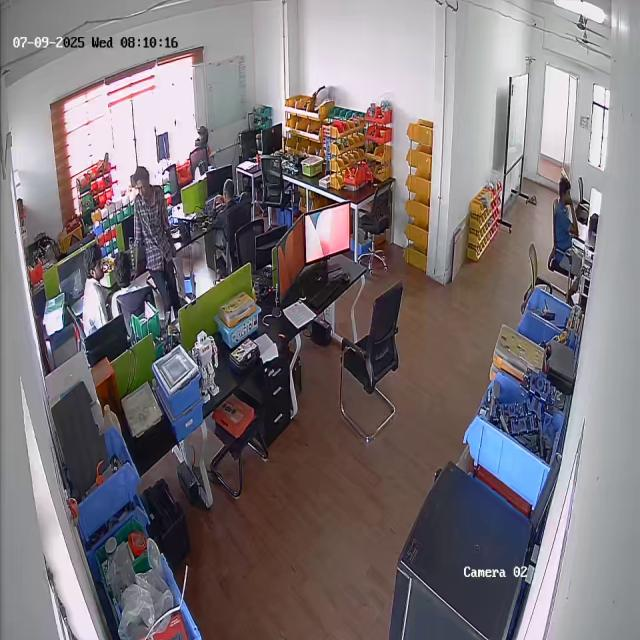person: (132, 164, 181, 318), (550, 177, 584, 281), (76, 244, 108, 336), (206, 178, 240, 258)
